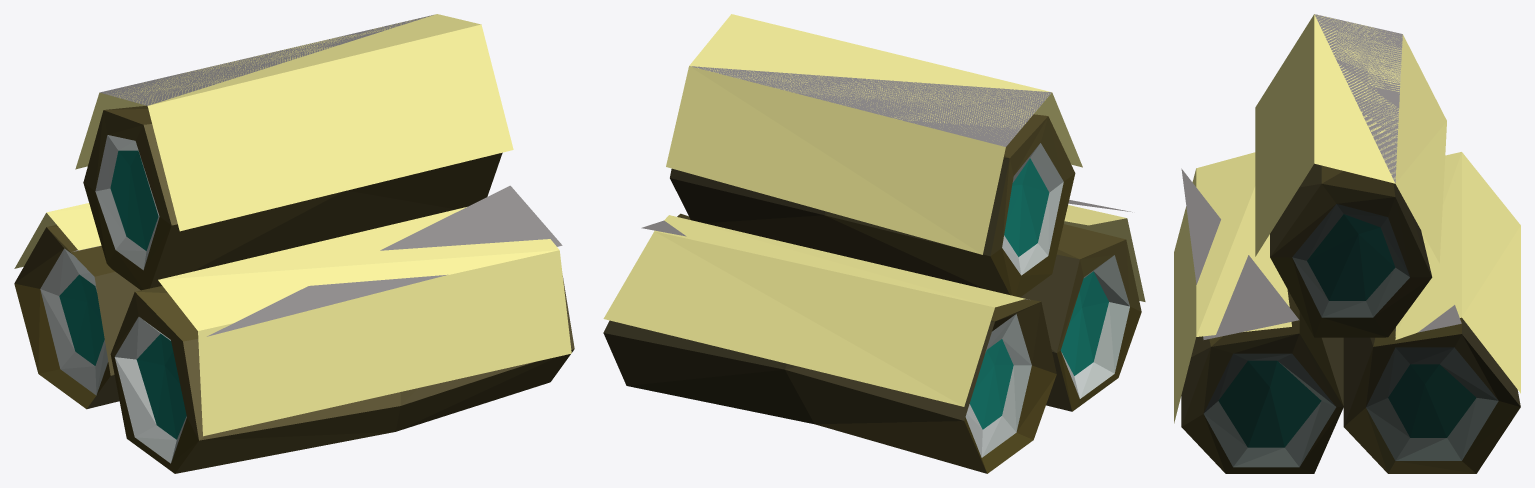
The model's file is magic-logs.obj.
3 views of the same model, side by side, from view 1: azimuth 30°, elevation 25°; view 2: azimuth 150°, elevation 25°; view 3: azimuth 270°, elevation 25° (orthographic). The views are drawn at different scales.
Visible parts, largest first — view 1: Item Magic logs 2026-10-08_15-35-51; view 2: Item Magic logs 2026-10-08_15-35-51; view 3: Item Magic logs 2026-10-08_15-35-51.
Part boxes in pixels (left/top/right/bottom): Item Magic logs 2026-10-08_15-35-51: left=14, top=14, right=574, bottom=473; Item Magic logs 2026-10-08_15-35-51: left=603, top=14, right=1145, bottom=473; Item Magic logs 2026-10-08_15-35-51: left=1174, top=14, right=1520, bottom=473.
Size of the model in its own units: 55 by 45 by 47.
